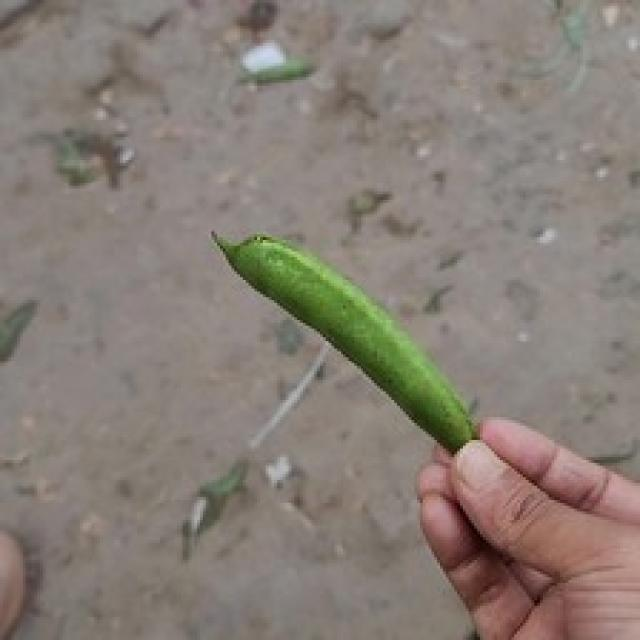Bean: (209, 226, 477, 454)
